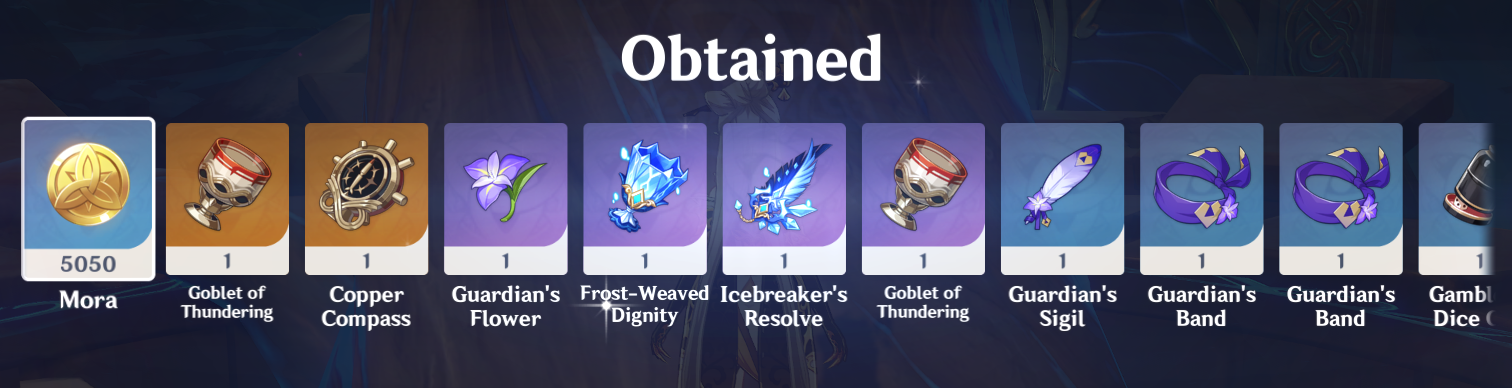3 star artifact: (991, 115, 1135, 283), (1274, 110, 1411, 286), (1138, 113, 1269, 283)
4 star artifact: (708, 115, 858, 282), (298, 116, 435, 285), (857, 113, 994, 282), (159, 120, 297, 285), (437, 116, 575, 280), (579, 117, 712, 280)
